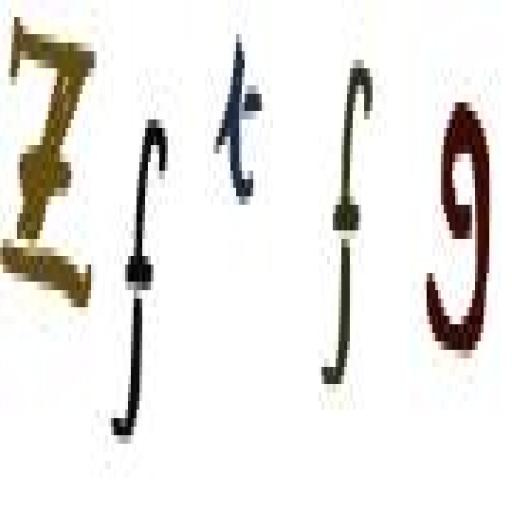9: (427, 74, 499, 384)
Z: (0, 0, 99, 334)
f: (111, 80, 175, 478), (323, 34, 382, 431)
t: (212, 12, 266, 223)
